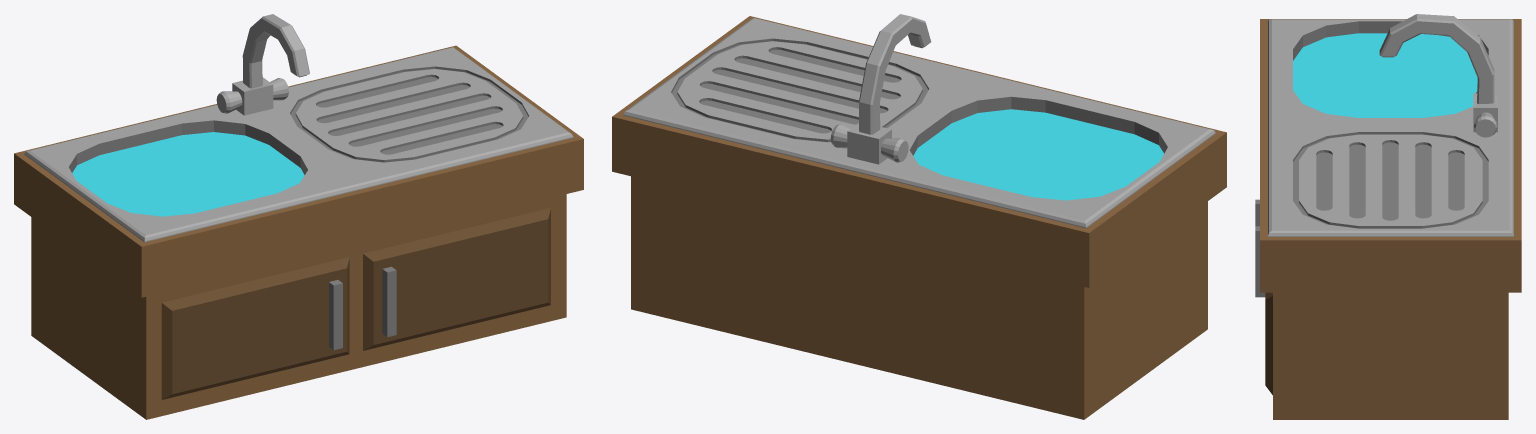
Rendered from Sink.fbx.
3 renders of one model, left to right at view 1: azimuth 30°, elevation 25°; view 2: azimuth 150°, elevation 25°; view 3: azimuth 270°, elevation 25°, orthographic. The views are drawn at different scales.
Parts seen in each view (by area): view 1: Sink; view 2: Sink; view 3: Sink.
Boxes of the visible parts, x1,y1,x2,y2 form: Sink: (14,14,583,419); Sink: (612,14,1226,419); Sink: (1255,14,1521,419).
Bounding box in the file's own units: 200 × 126 × 102.
